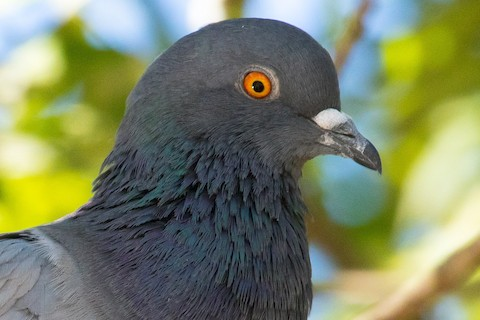pigeon: (15, 15, 398, 307)
